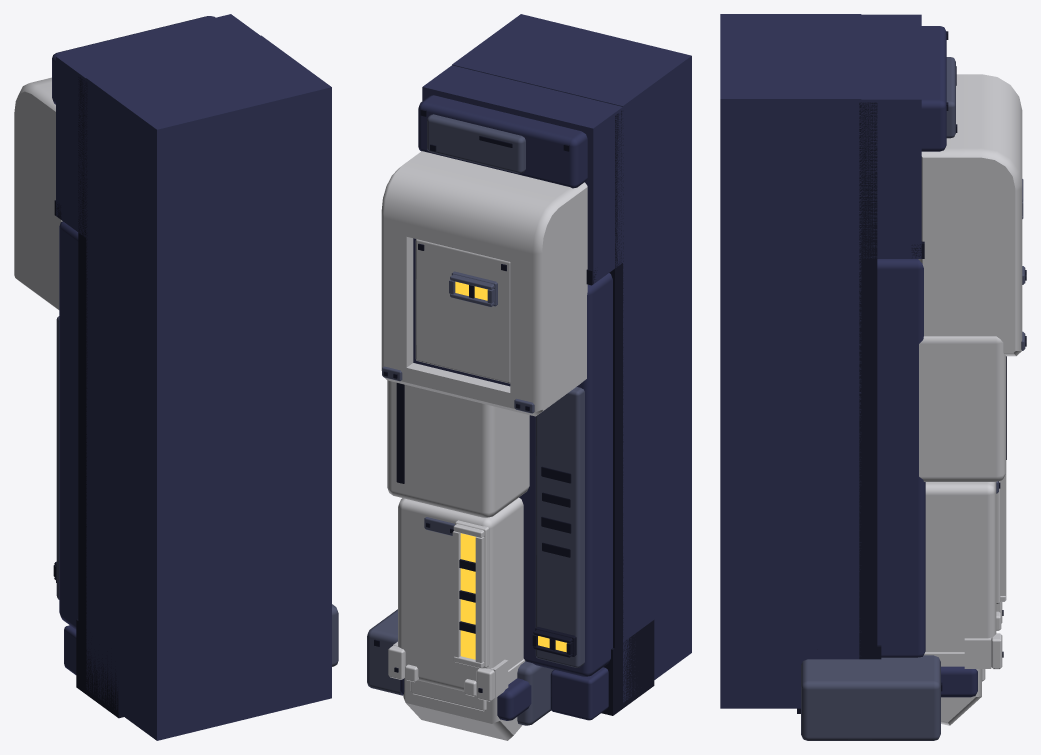
The model's file is hull.bay.pilaster.bumper.none.plate.w1.000.s0.k-2.1.glb.
The picture shows the model from 3 angles, left to right: view 1: azimuth 30°, elevation 25°; view 2: azimuth 150°, elevation 25°; view 3: azimuth 270°, elevation 25°; orthographic projection. The views are drawn at different scales.
Parts seen in each view (by area): view 1: hull.bay.pilaster.bumper.none.plate.w1.000.s0.k-2.1; view 2: hull.bay.pilaster.bumper.none.plate.w1.000.s0.k-2.1; view 3: hull.bay.pilaster.bumper.none.plate.w1.000.s0.k-2.1.
Part boxes in pixels (x1,y1,x2,y2): hull.bay.pilaster.bumper.none.plate.w1.000.s0.k-2.1: (14, 14, 338, 740); hull.bay.pilaster.bumper.none.plate.w1.000.s0.k-2.1: (367, 14, 691, 740); hull.bay.pilaster.bumper.none.plate.w1.000.s0.k-2.1: (720, 14, 1026, 740).
Size of the model in its own units: 1.28 by 3.47 by 1.52.
